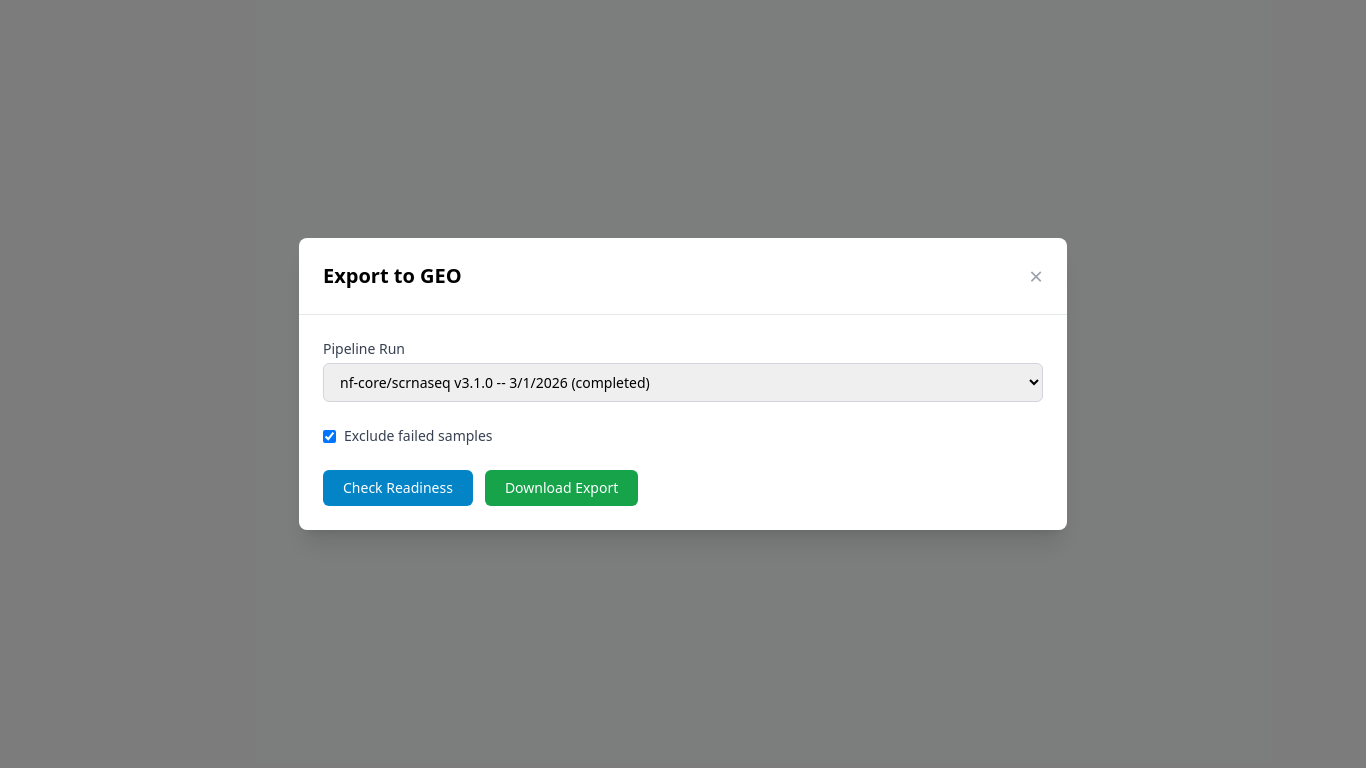
GeoExportModal › renders sample validations section
This screenshot has width=1366, height=768.
Click the button "Check Readiness" at [398, 488], box [323, 470, 473, 506]
(page scrolled)
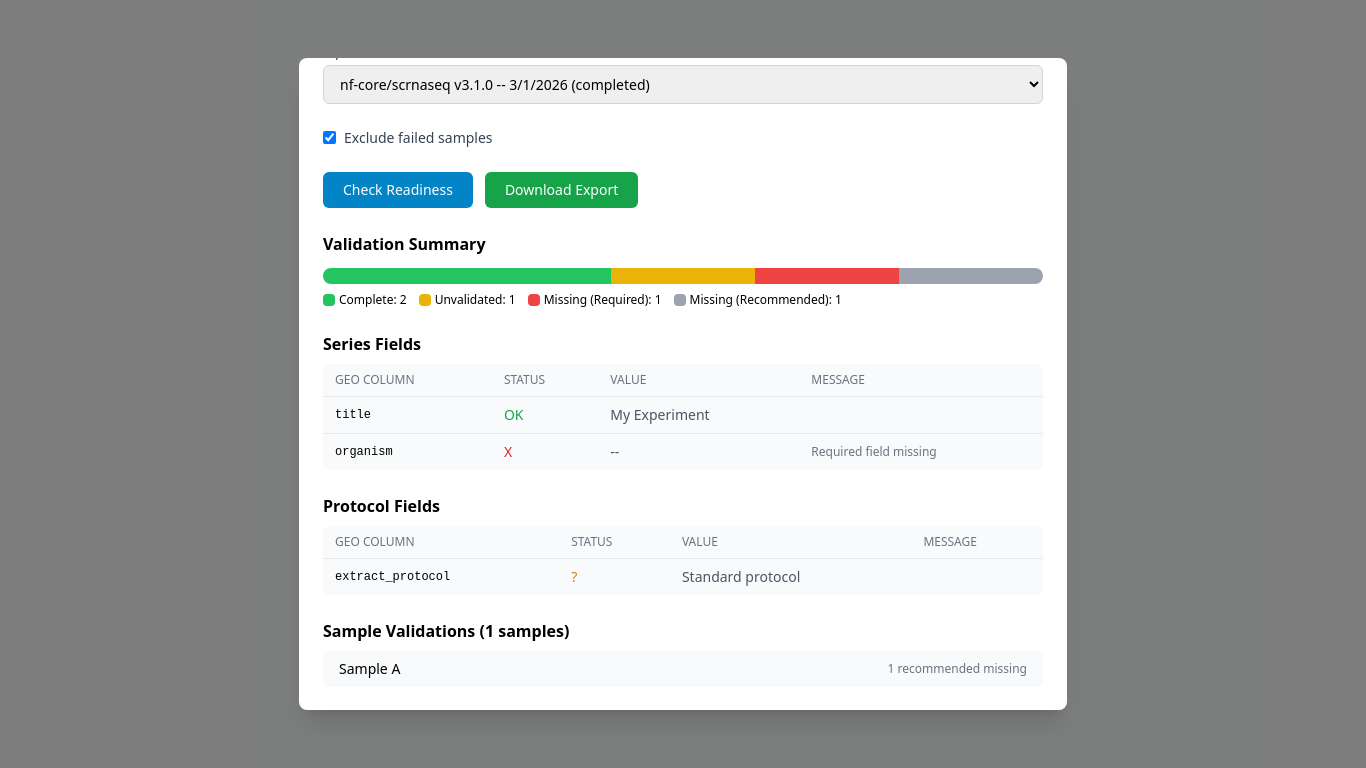
Now the heading "Sample Validations (1 samples)" is shown, box [323, 620, 569, 642]
Now the text "Sample A" is shown, box [339, 659, 400, 679]
